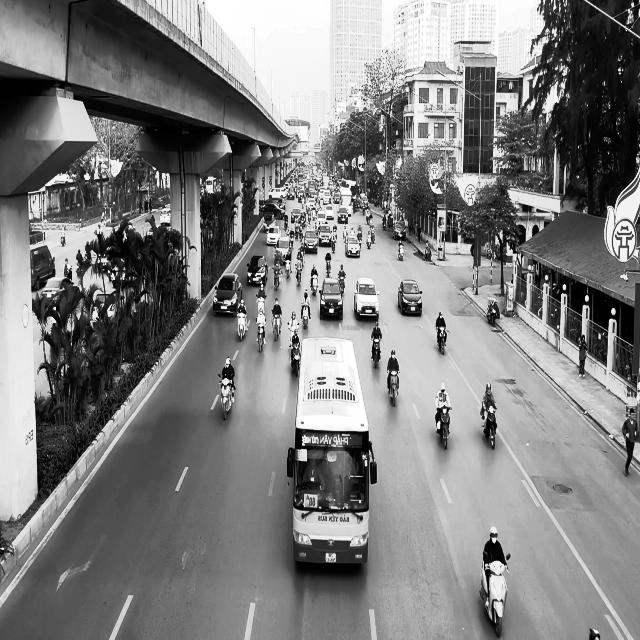bus: (287, 337, 377, 566)
car: (36, 276, 80, 312), (213, 273, 243, 316), (354, 277, 380, 320), (320, 277, 343, 320), (398, 279, 422, 315), (247, 254, 268, 286), (392, 220, 407, 240)
motorbike: (480, 553, 510, 637), (218, 374, 236, 419), (481, 405, 497, 449), (436, 406, 451, 450), (387, 370, 400, 406), (290, 341, 301, 376), (436, 326, 448, 355), (372, 336, 382, 368), (237, 312, 248, 341), (487, 297, 498, 326), (257, 320, 266, 352), (272, 313, 282, 341), (398, 241, 404, 261)
